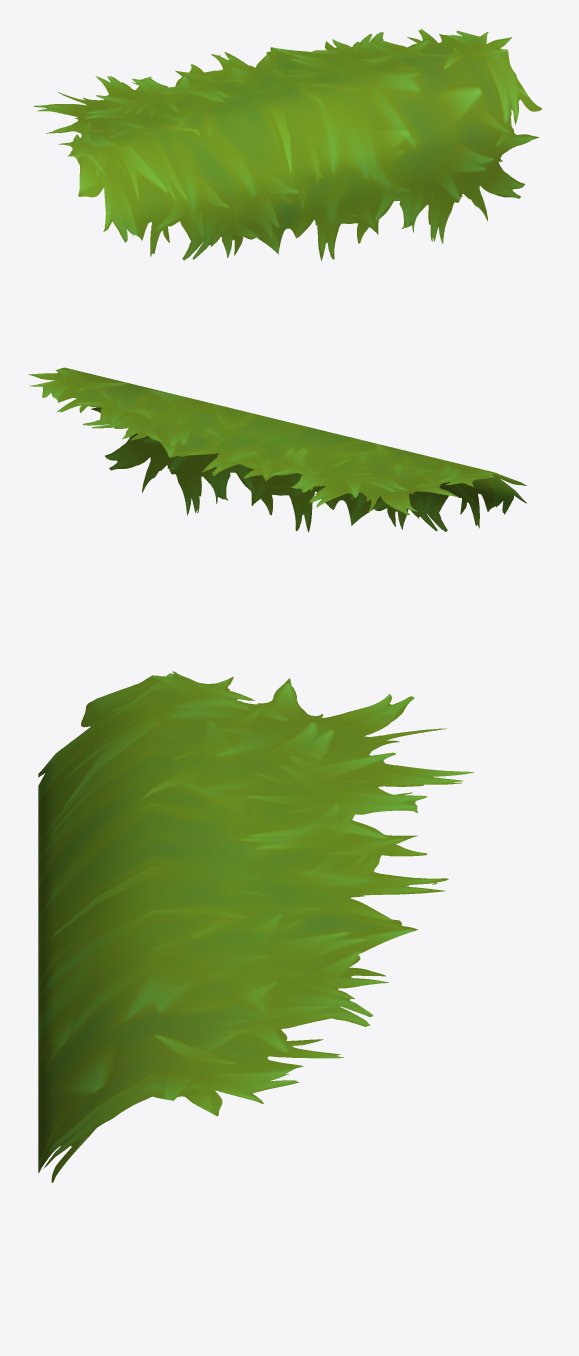
The model's file is Grass_Mask04_corner.fbx.
3 renders of one model, top to bottom at view 1: azimuth 30°, elevation 25°; view 2: azimuth 150°, elevation 25°; view 3: azimuth 270°, elevation 25°, orthographic. The views are drawn at different scales.
Parts seen in each view (by area): view 1: Grass_Mask01.001; view 2: Grass_Mask01.001; view 3: Grass_Mask01.001.
Boxes of the visible parts, bbox=[...] form: Grass_Mask01.001: bbox=[33, 29, 541, 260]; Grass_Mask01.001: bbox=[28, 367, 526, 532]; Grass_Mask01.001: bbox=[38, 671, 473, 1182].
Size of the model in its own units: 186 by 66.8 by 79.44.
1 material, 1 textured.
